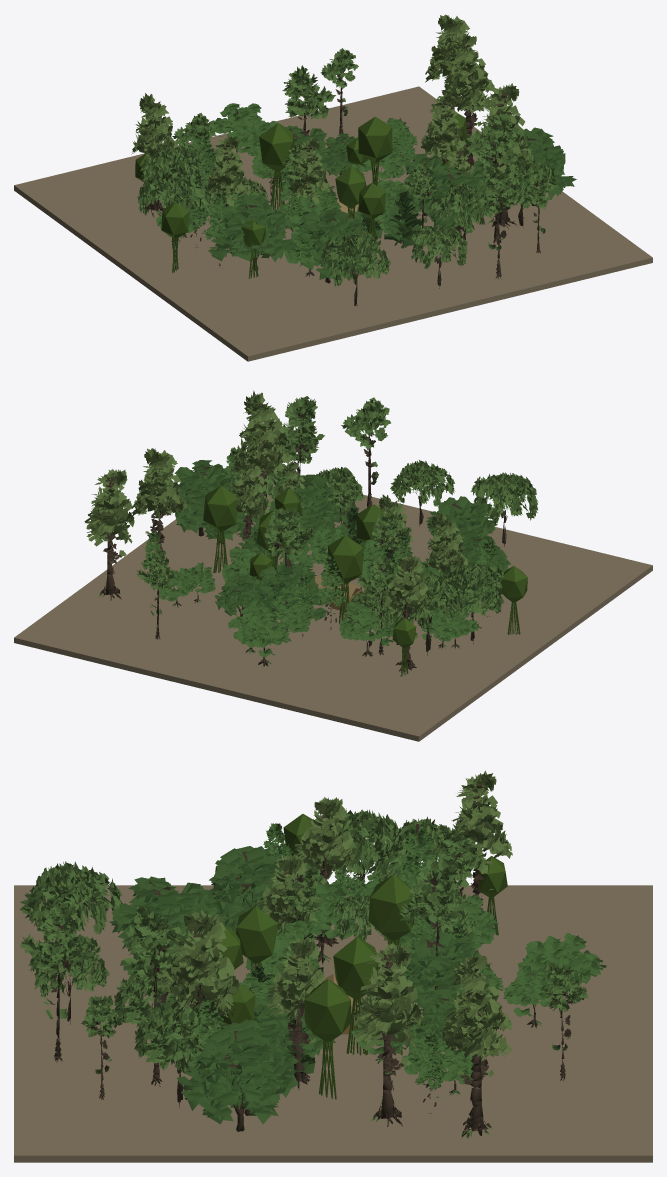
3 renders of one model, top to bottom at view 1: azimuth 30°, elevation 25°; view 2: azimuth 150°, elevation 25°; view 3: azimuth 270°, elevation 25°, orthographic. The views are drawn at different scales.
Visible parts, largest first — view 1: Lan_MuongPhang, Rung_MP.009, Rung_MP.064, Rung_MP.010, Rung_MP.043, Rung_MP.063, Rung_MP.020, Rung_MP.047, Rung_MP.012, Rung_MP.027, Rung_MP.041, Rung_MP.021 (+31 smaller); view 2: Lan_MuongPhang, Rung_MP.066, Rung_MP.041, Rung_MP.064, Rung_MP.010, Rung_MP.063, Rung_MP.037, Rung_MP.047, Rung_MP.003, Rung_MP.005, Rung_MP.027, Rung_MP.008 (+34 smaller); view 3: Lan_MuongPhang, Rung_MP.037, Rung_MP.064, Rung_MP.066, Rung_MP.041, Rung_MP.010, Rung_MP.009, Rung_MP.058, Rung_MP.068, Rung_MP.043, Rung_MP.047, Rung_MP.020 (+39 smaller).
Part boxes in pixels (x1,y1,x2,y2): Lan_MuongPhang: (14,86,652,361); Rung_MP.009: (208,195,296,270); Rung_MP.064: (441,32,494,167); Rung_MP.010: (320,230,391,306); Rung_MP.043: (289,209,375,283); Rung_MP.063: (137,164,214,247); Rung_MP.020: (464,114,524,243); Rung_MP.047: (131,93,177,217); Rung_MP.012: (428,181,496,239); Rung_MP.027: (411,224,467,288); Rung_MP.041: (476,83,533,229); Rung_MP.021: (204,135,250,249); Lan_MuongPhang: (14,475,652,741); Rung_MP.066: (84,469,134,600); Rung_MP.041: (231,390,292,507); Rung_MP.064: (131,448,187,572); Rung_MP.010: (470,472,538,546); Rung_MP.063: (436,561,504,644); Rung_MP.037: (173,460,230,537); Rung_MP.047: (382,555,429,673); Rung_MP.003: (249,563,328,629); Rung_MP.005: (267,474,345,544); Rung_MP.027: (390,460,455,526); Rung_MP.008: (397,570,464,655); Lan_MuongPhang: (14,885,652,1162); Rung_MP.037: (177,1025,298,1131); Rung_MP.064: (352,942,423,1126); Rung_MP.066: (439,951,512,1138); Rung_MP.041: (159,910,239,1099); Rung_MP.010: (20,861,122,934); Rung_MP.009: (205,846,282,932); Rung_MP.058: (134,998,221,1107); Rung_MP.068: (266,937,325,1089); Rung_MP.043: (109,876,222,975); Rung_MP.047: (451,770,512,932); Rung_MP.020: (122,905,187,1086).
Bounding box in the file's own units: 80 × 27.8 × 80.
13 materials, 1 textured.
